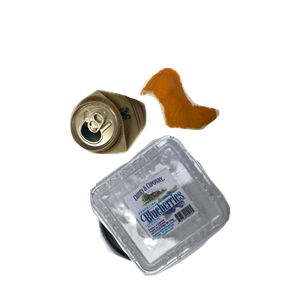glass: (95, 164, 286, 300)
metal: (67, 87, 206, 234)
plastic: (88, 133, 300, 300)
trash: (137, 65, 300, 188)
